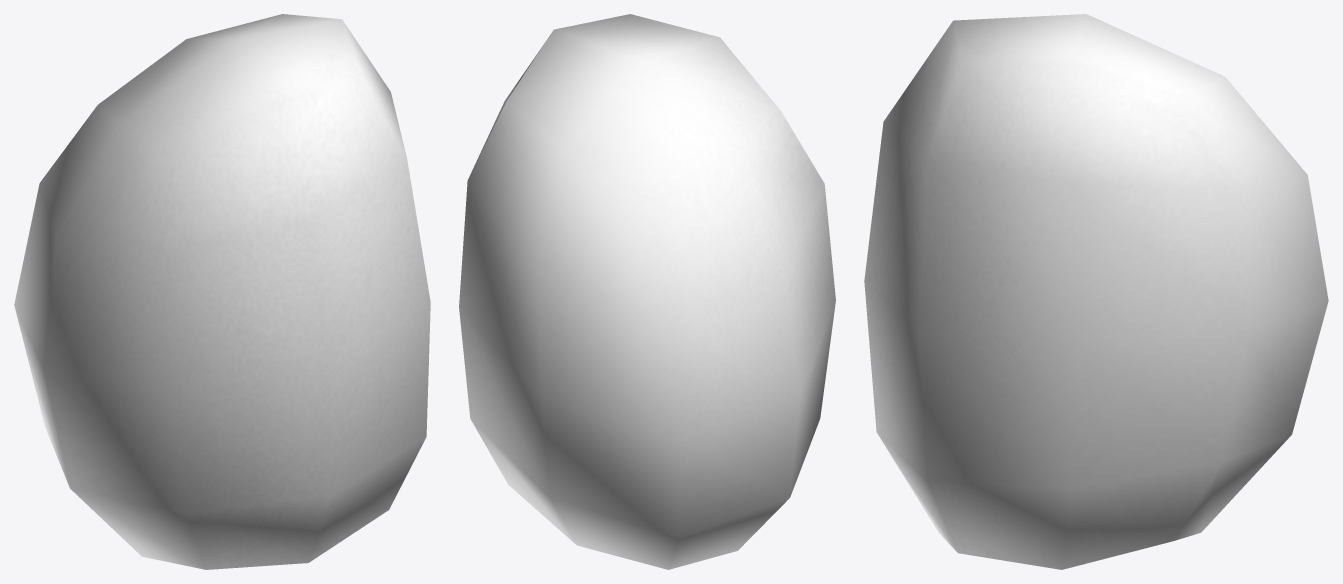
Rendered from rock_boulder_b_00.obj.
3 views of the same model, side by side, from view 1: azimuth 30°, elevation 25°; view 2: azimuth 150°, elevation 25°; view 3: azimuth 270°, elevation 25° (orthographic). The views are drawn at different scales.
Size of the model in its own units: 1.38 by 1.94 by 1.49.
